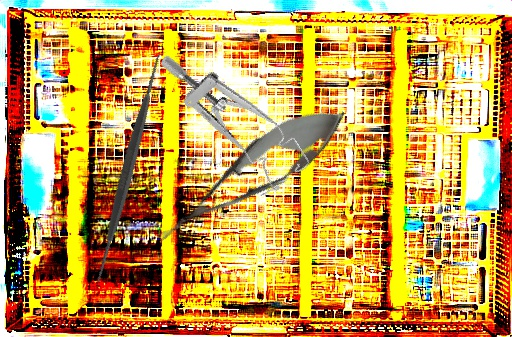Micro Scissor: (143, 88, 359, 262)
Spatula Surgical: (10, 48, 248, 288)
Speculum: (157, 21, 314, 208)
